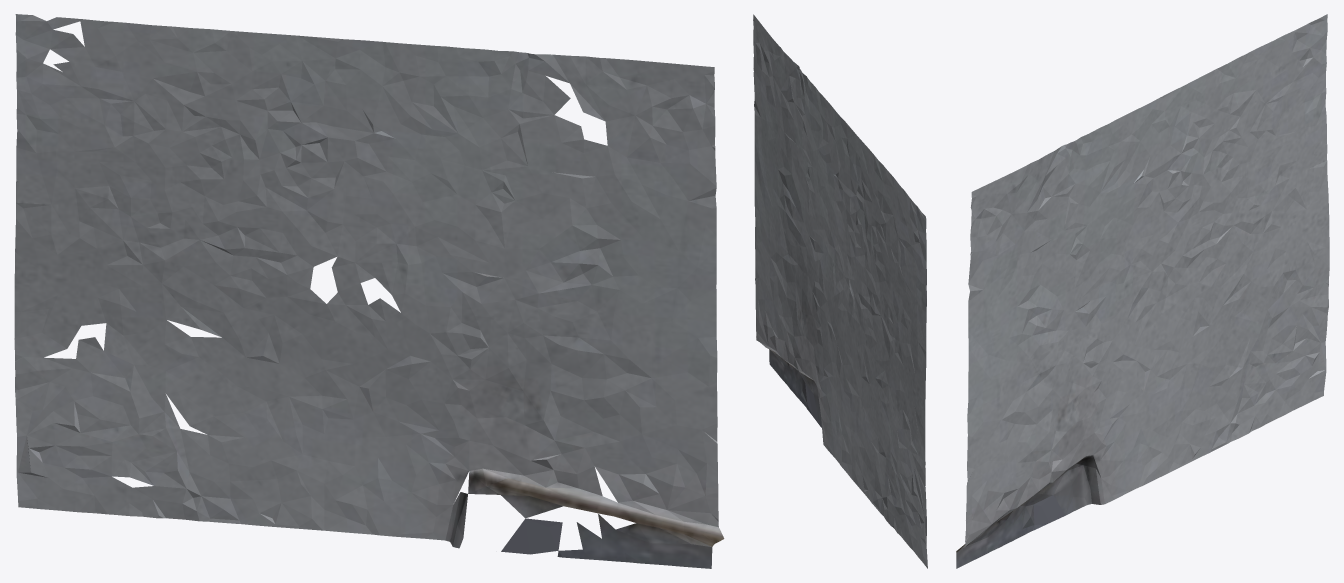
3 renders of one model, left to right at view 1: azimuth 30°, elevation 25°; view 2: azimuth 150°, elevation 25°; view 3: azimuth 270°, elevation 25°, orthographic. The views are drawn at different scales.
Size of the model in its own units: 0.8374 by 0.8374 by 0.7423.
3 materials, 3 textured.
